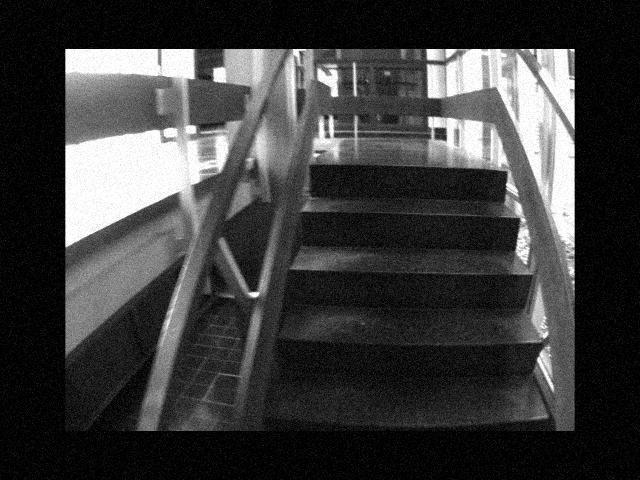Escaleras: (265, 159, 559, 429)
